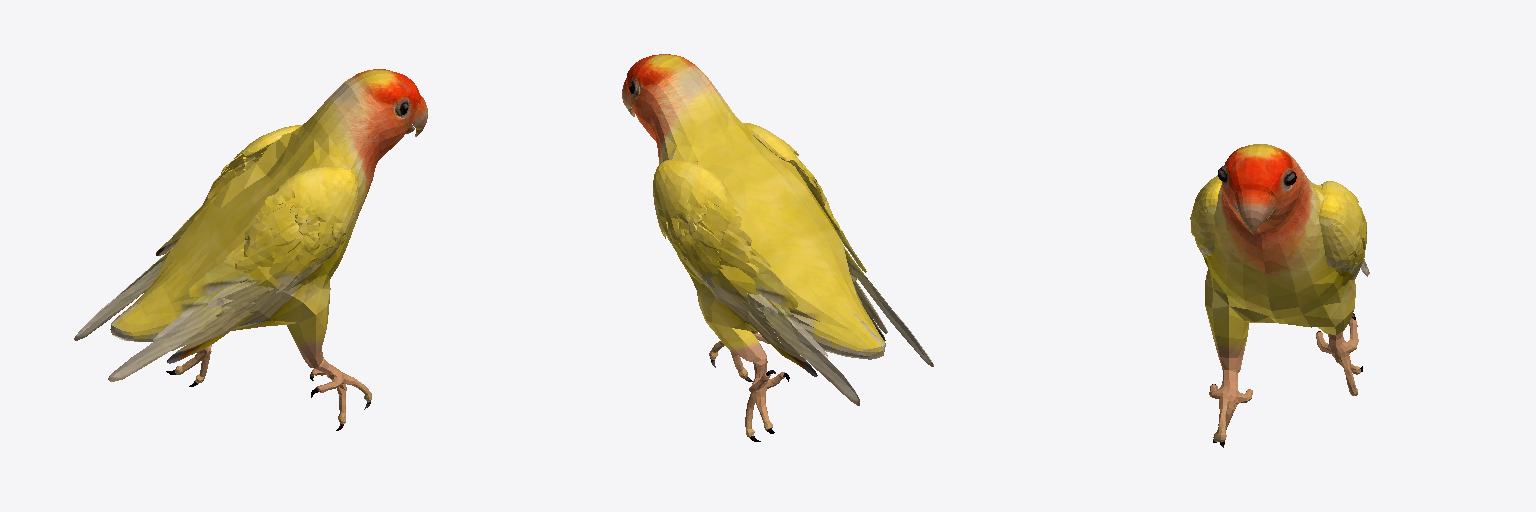
3 views of the same model, side by side, from view 1: azimuth 30°, elevation 25°; view 2: azimuth 150°, elevation 25°; view 3: azimuth 270°, elevation 25° (orthographic).
Visible parts, largest first — view 1: Humanoidrootpart1; view 2: Humanoidrootpart1; view 3: Humanoidrootpart1.
Boxes of the visible parts, <box> form: Humanoidrootpart1: <box>74,69,427,430</box>; Humanoidrootpart1: <box>622,54,933,441</box>; Humanoidrootpart1: <box>1190,144,1369,447</box>.
Size of the model in its own units: 7.47 by 7.4 by 3.7.
Materials: 1 (1 with a texture image).